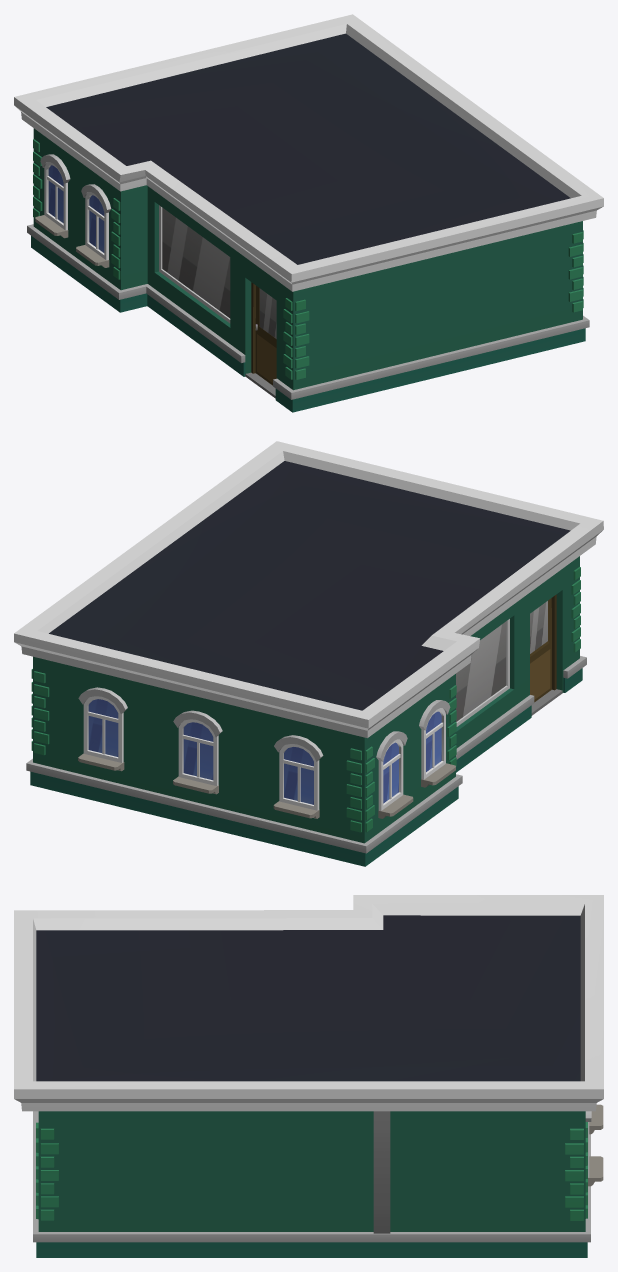
The model's file is Building_1_1_E.fbx.
3 views of the same model, one above another, from view 1: azimuth 30°, elevation 25°; view 2: azimuth 150°, elevation 25°; view 3: azimuth 270°, elevation 25° (orthographic). The views are drawn at different scales.
Parts seen in each view (by area): view 1: Building_1_1_E; view 2: Building_1_1_E; view 3: Building_1_1_E.
Part boxes in pixels (x1=…): Building_1_1_E: x1=14, y1=14, x2=603, y2=412; Building_1_1_E: x1=14, y1=441, x2=603, y2=866; Building_1_1_E: x1=14, y1=895, x2=603, y2=1257.
Size of the model in its own units: 822 by 341 by 1051.
